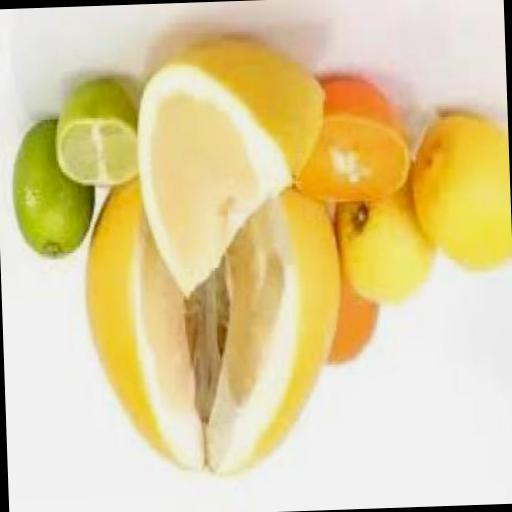biodegradable: (83, 173, 348, 485), (133, 31, 337, 304), (406, 108, 512, 276), (290, 70, 415, 212), (332, 162, 439, 302), (12, 118, 98, 264), (58, 83, 142, 194), (324, 270, 382, 368)
